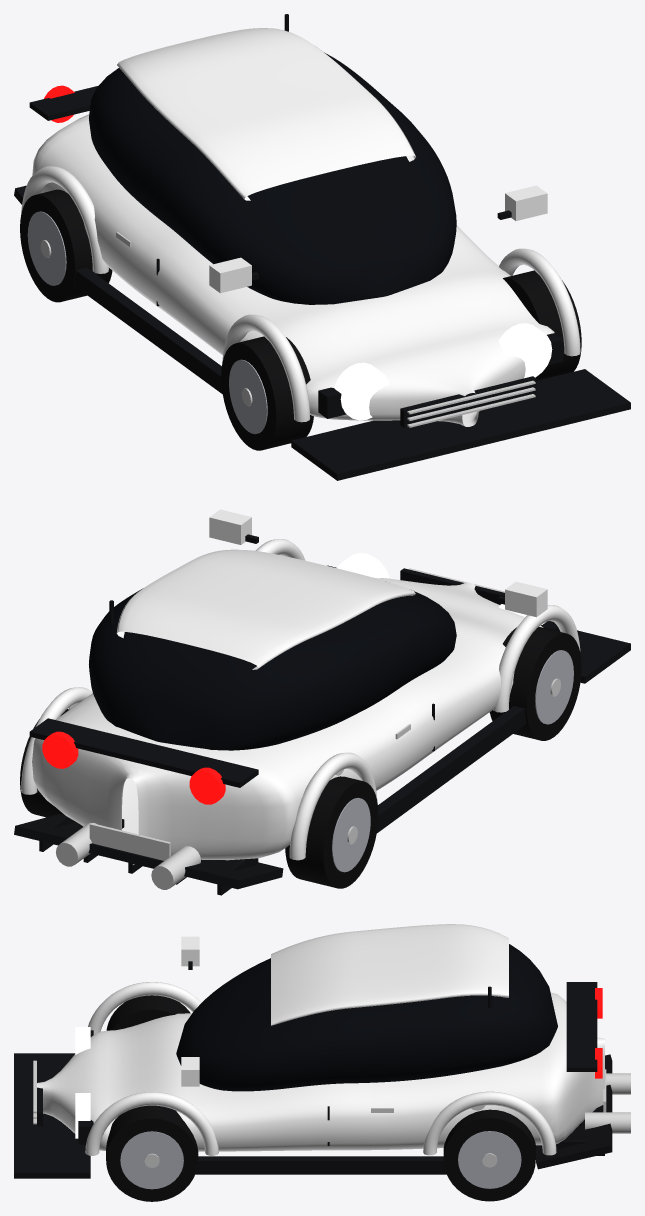
Rendered from car_cityhot.glb.
3 renders of one model, top to bottom at view 1: azimuth 30°, elevation 25°; view 2: azimuth 150°, elevation 25°; view 3: azimuth 270°, elevation 25°, orthographic. The views are drawn at different scales.
Visible parts, largest first — view 1: cabin, body, roof, splitter, tire (×3), skirtR, rim (×2), flareR1.1, flareL1.1, flareR-1.1, headR, headL (+5 smaller); view 2: body, cabin, roof, tire (×3), lip, skirtR, rim (×2), diffuser, flareR-1.1, flareR1.1, plate, splitter (+10 smaller); view 3: body, cabin, roof, tire (×3), splitter, rim (×2), skirtL, lip, flareL1.1, flareL-1.1, diffuser, flareR1.1 (+6 smaller).
Part boxes in pixels (box(x1,y1,x2,y2)): cabin: box(89, 52, 456, 304); body: box(32, 114, 554, 426); roof: box(117, 28, 415, 200); splitter: box(291, 369, 630, 480); tire (×3): box(20, 189, 581, 450); skirtR: box(74, 267, 222, 393); rim (×2): box(27, 211, 267, 434); flareR1.1: box(222, 314, 310, 422); flareL1.1: box(499, 248, 580, 356); flareR-1.1: box(21, 166, 108, 273); headR: box(334, 362, 389, 420); headL: box(498, 323, 552, 378); body: box(32, 577, 543, 864); cabin: box(89, 588, 456, 750); roof: box(116, 549, 415, 669); tire (×3): box(20, 627, 581, 888); lip: box(29, 718, 258, 787); skirtR: box(376, 706, 526, 833); rim (×2): box(332, 650, 573, 872); diffuser: box(14, 814, 283, 889); flareR-1.1: box(289, 752, 377, 860); flareR1.1: box(493, 605, 580, 712); plate: box(89, 823, 170, 860); splitter: box(577, 630, 630, 683); body: box(37, 992, 604, 1151); cabin: box(176, 944, 557, 1091); roof: box(271, 924, 508, 1025); tire (×3): box(106, 995, 535, 1201); splitter: box(14, 1053, 90, 1178); rim (×2): box(120, 1131, 521, 1189); skirtL: box(195, 1156, 446, 1174); lip: box(566, 982, 597, 1071); flareL1.1: box(85, 1092, 218, 1155); flareL-1.1: box(423, 1091, 556, 1155); diffuser: box(536, 1054, 612, 1169); flareR1.1: box(88, 982, 201, 1034).
Bounding box in the file's own units: 2.06 × 1.35 × 4.02.
